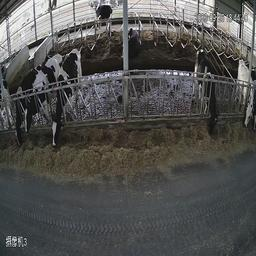cow: (53, 53, 85, 151), (194, 45, 219, 136), (25, 54, 51, 140), (237, 54, 255, 129), (15, 80, 24, 148), (94, 2, 115, 29), (128, 23, 142, 58)
